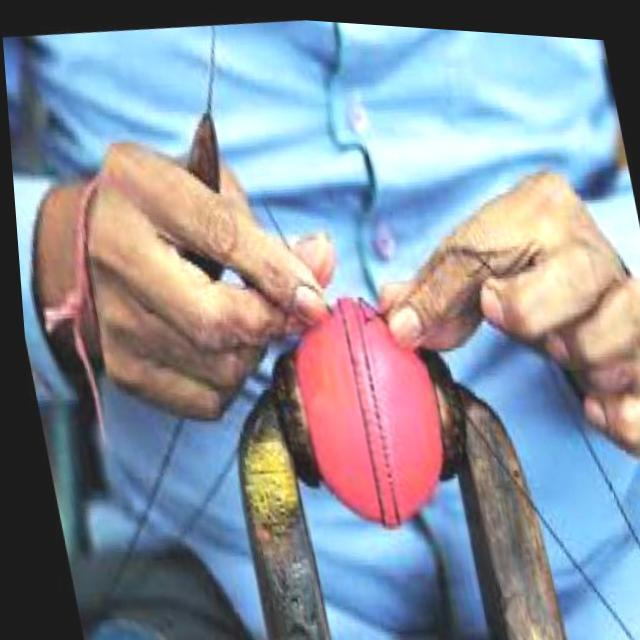-: (267, 288, 450, 527)
